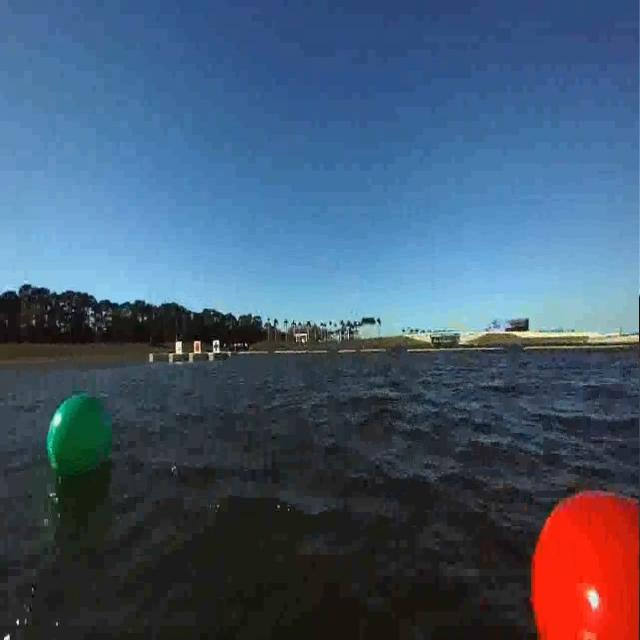green-buoy: (45, 392, 112, 481)
red-buoy: (524, 484, 638, 638)
